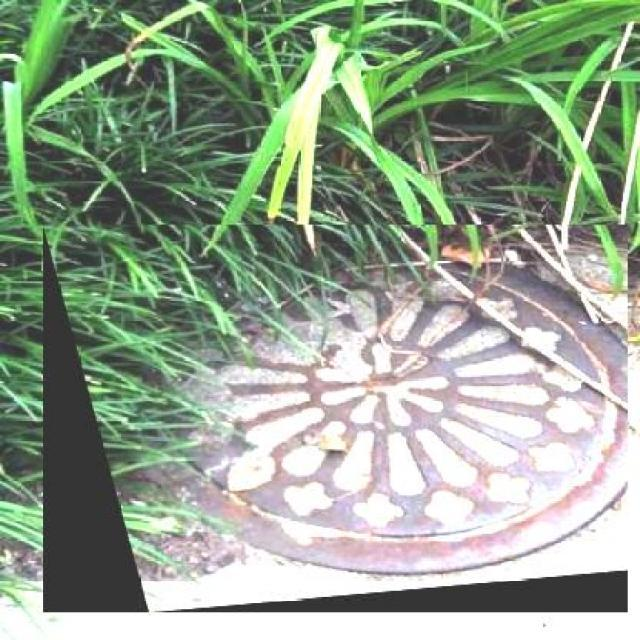Manhole: (43, 225, 630, 612)
